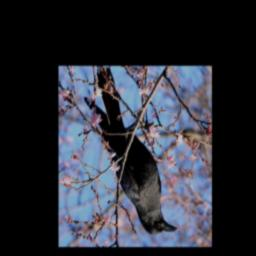Crow: (84, 69, 178, 237)
